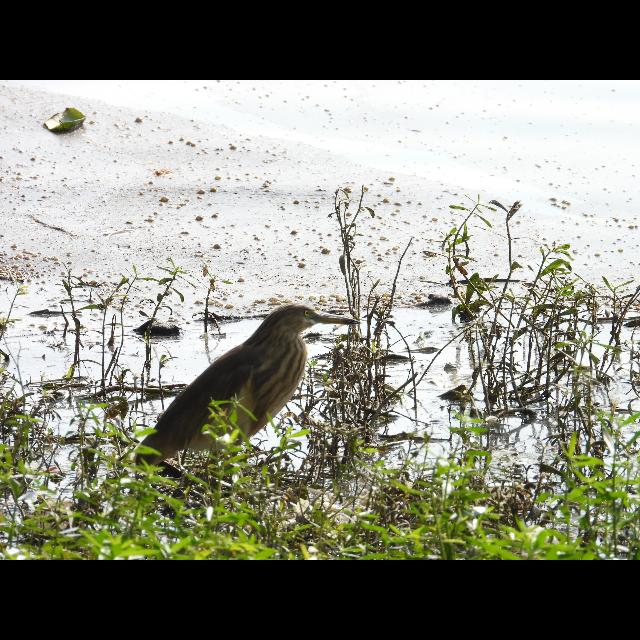heron: (128, 302, 374, 484)
